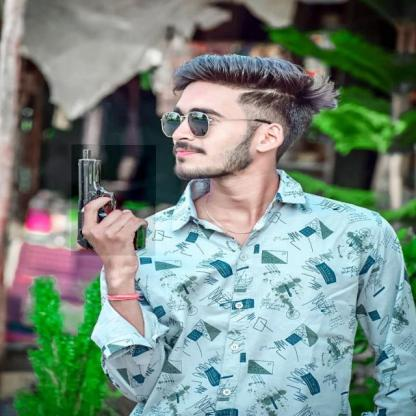handgun: (71, 145, 156, 256)
